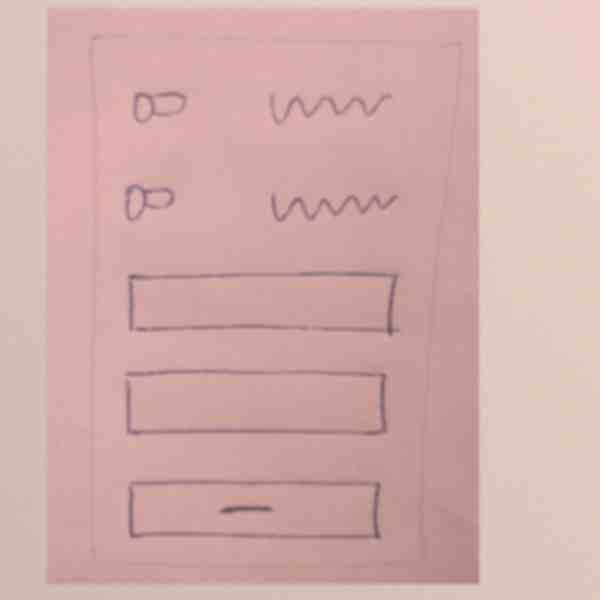button: (123, 473, 385, 547)
switch: (122, 84, 196, 138), (115, 177, 189, 231)
text: (259, 85, 396, 128), (267, 183, 403, 226)
text_input: (123, 265, 404, 345), (115, 363, 396, 443)
